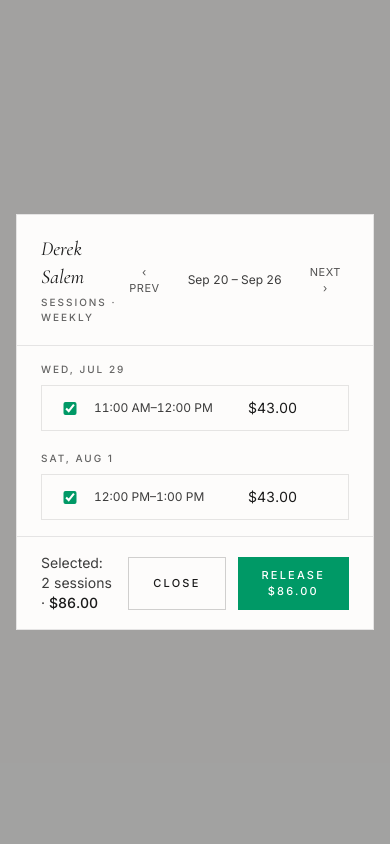
TrainerSessionsModal selection › deselecting a session STAYS deselected and drops the total
Expected: the button "Release $86.00" is shown, [238,556,349,610]
Click the checkbox labelled "11:00 AM–12:00 PM $43.00 Ready" at (178, 408), box [58,399,297,416]
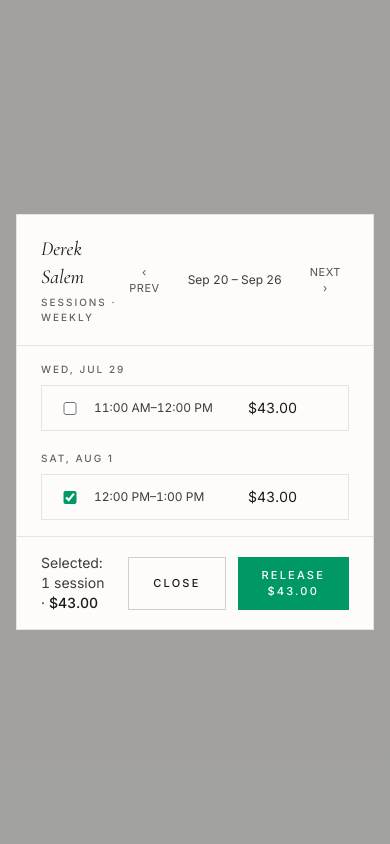
Expected: the button "Release $43.00" is shown, [238,556,349,610]
